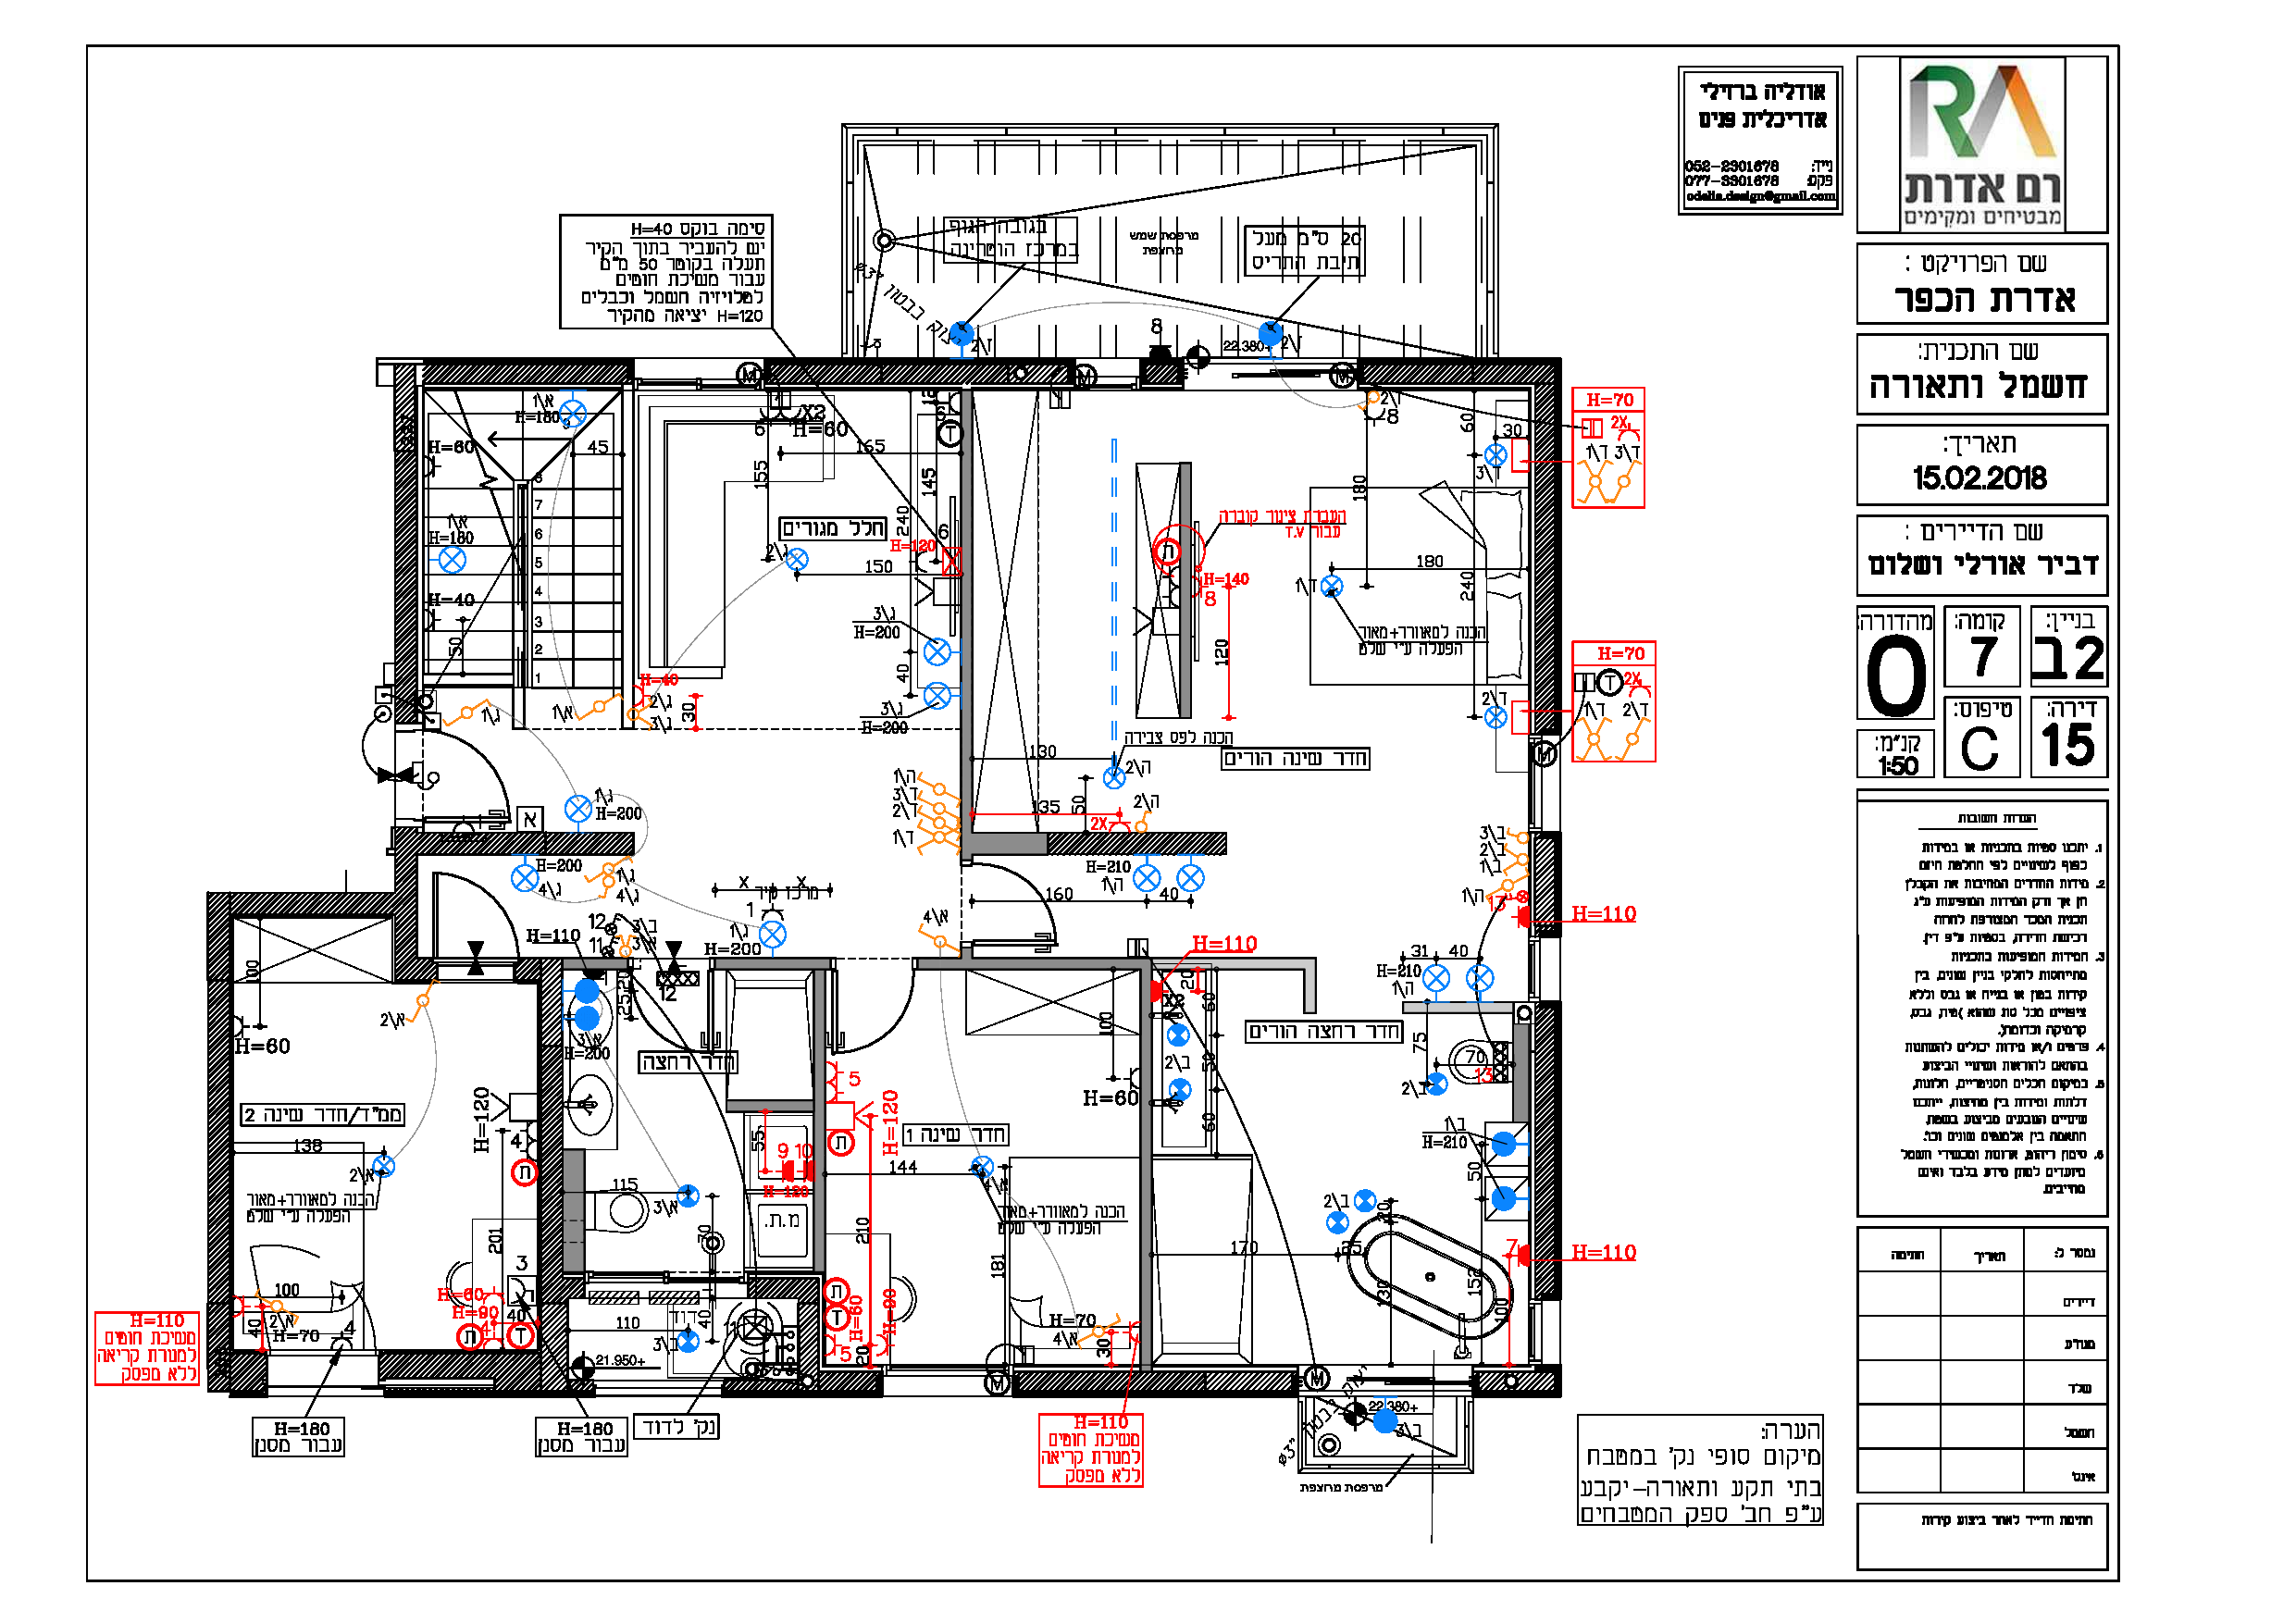door: (987, 855, 1063, 954), (425, 866, 516, 945), (831, 984, 908, 1059)
wall: (209, 892, 232, 1328), (393, 455, 416, 683), (1534, 478, 1555, 701), (543, 1045, 560, 1302), (1539, 1006, 1556, 1247), (207, 892, 413, 912), (427, 365, 627, 385), (379, 1352, 541, 1375), (395, 833, 416, 973), (1142, 968, 1152, 1231), (1051, 836, 1223, 852), (817, 973, 824, 1268), (963, 592, 971, 766), (1019, 1374, 1121, 1388), (799, 1302, 813, 1367)
